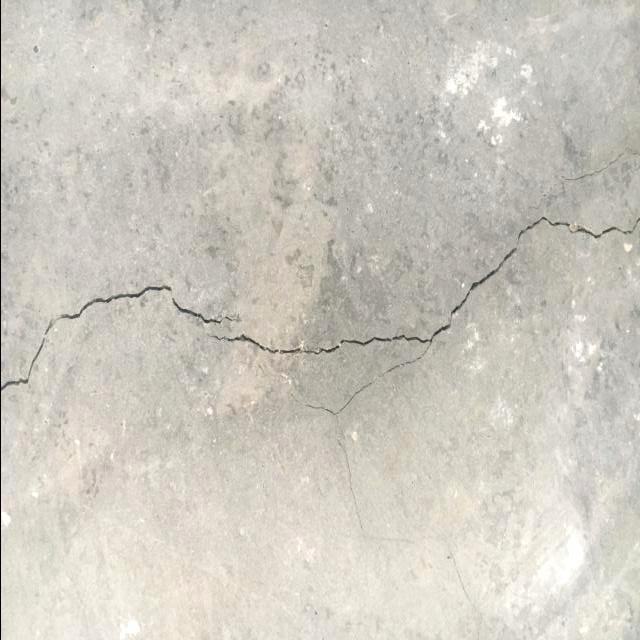SurfaceCrack: (1, 181, 640, 415)
